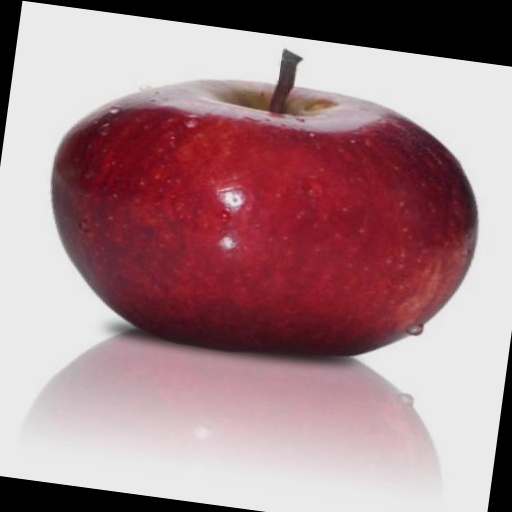fruit: (51, 81, 476, 354)
